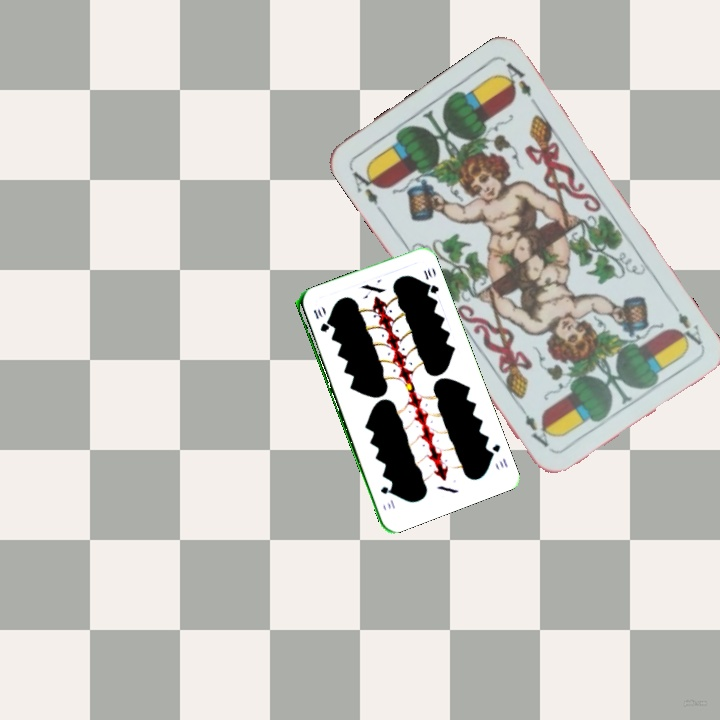EA: (346, 162, 386, 216), (668, 297, 705, 350)
G10: (484, 440, 510, 470), (309, 305, 330, 334)
